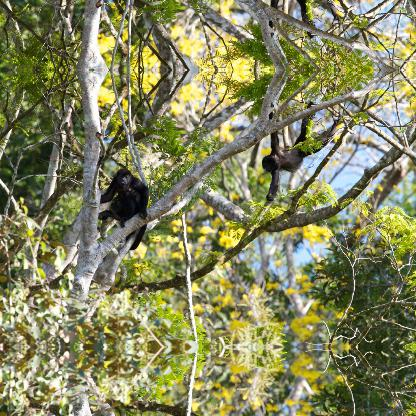Monkey: (90, 166, 150, 236)
